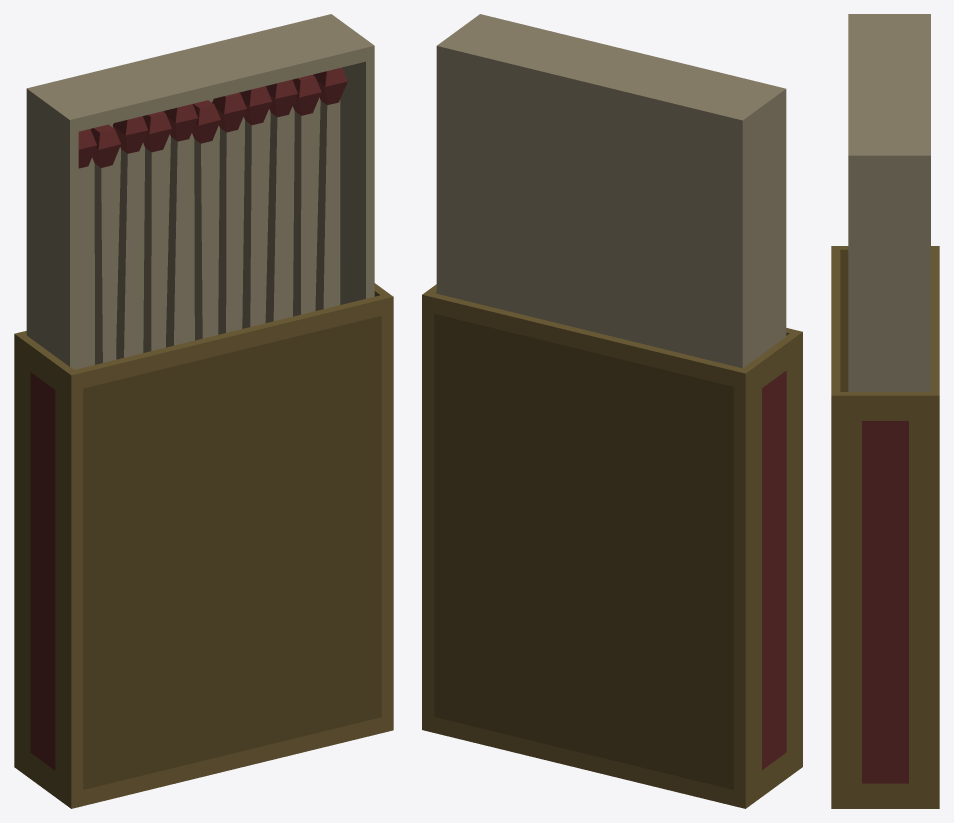
File: matchbox.glb
3 views of the same model, side by side, from view 1: azimuth 30°, elevation 25°; view 2: azimuth 150°, elevation 25°; view 3: azimuth 270°, elevation 25° (orthographic). The views are drawn at different scales.
Visible parts, largest first — view 1: Matchbox; view 2: Matchbox; view 3: Matchbox.
Part boxes in pixels (box(x1,y1,x2,y2)): Matchbox: box(14, 14, 393, 808); Matchbox: box(422, 14, 802, 808); Matchbox: box(831, 14, 939, 808).
Size of the model in its own units: 0.5397 by 1.09 by 0.1653.
